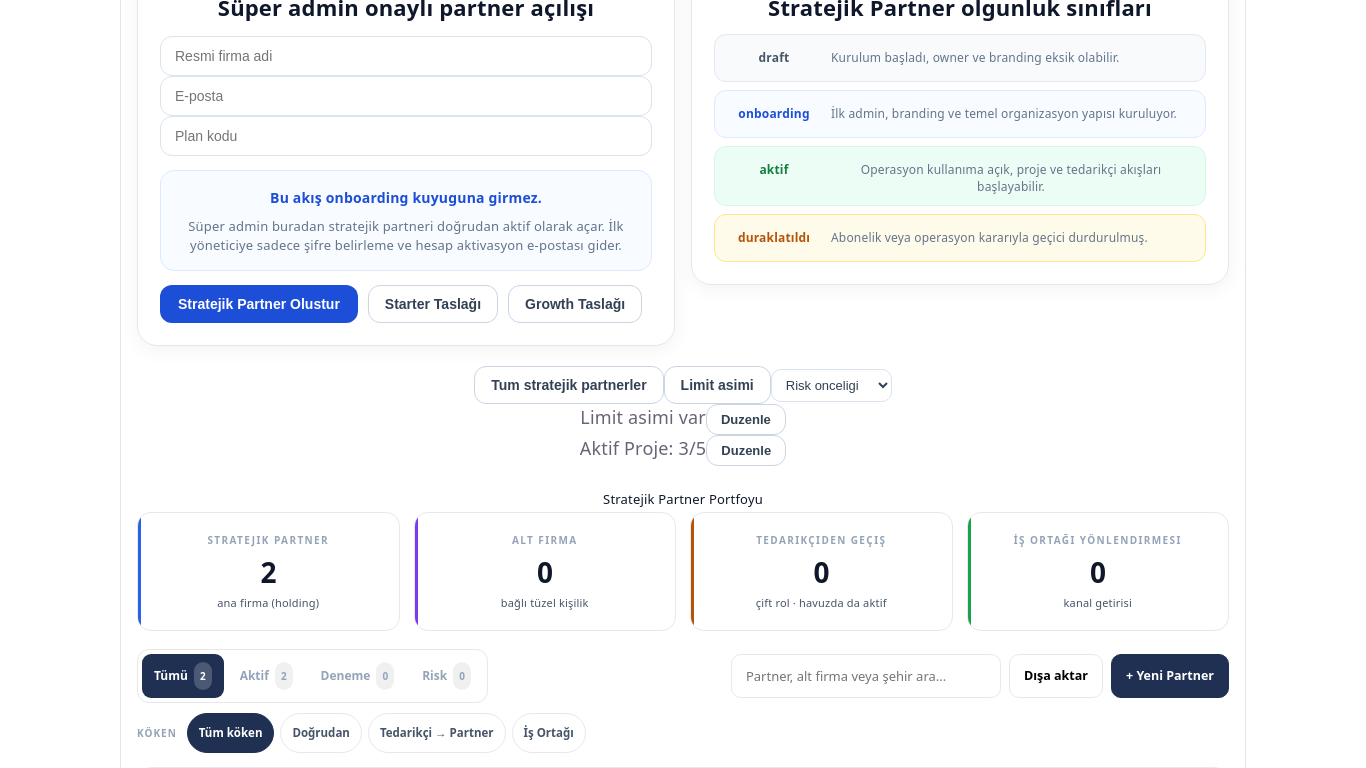
Scenario: AdminPage tenant governance permissions › super admin icin tenant governance aksiyonlarini aktif gosterir
(page scrolled)
Expected: the text "Stratejik Partner Portfoyu" is shown, [603,490,763,508]
Expected: the button "Stratejik Partner Olustur" is enabled, [160,285,358,323]
Click the button "Limit asimi" at (717, 385), box [664,366,771,404]
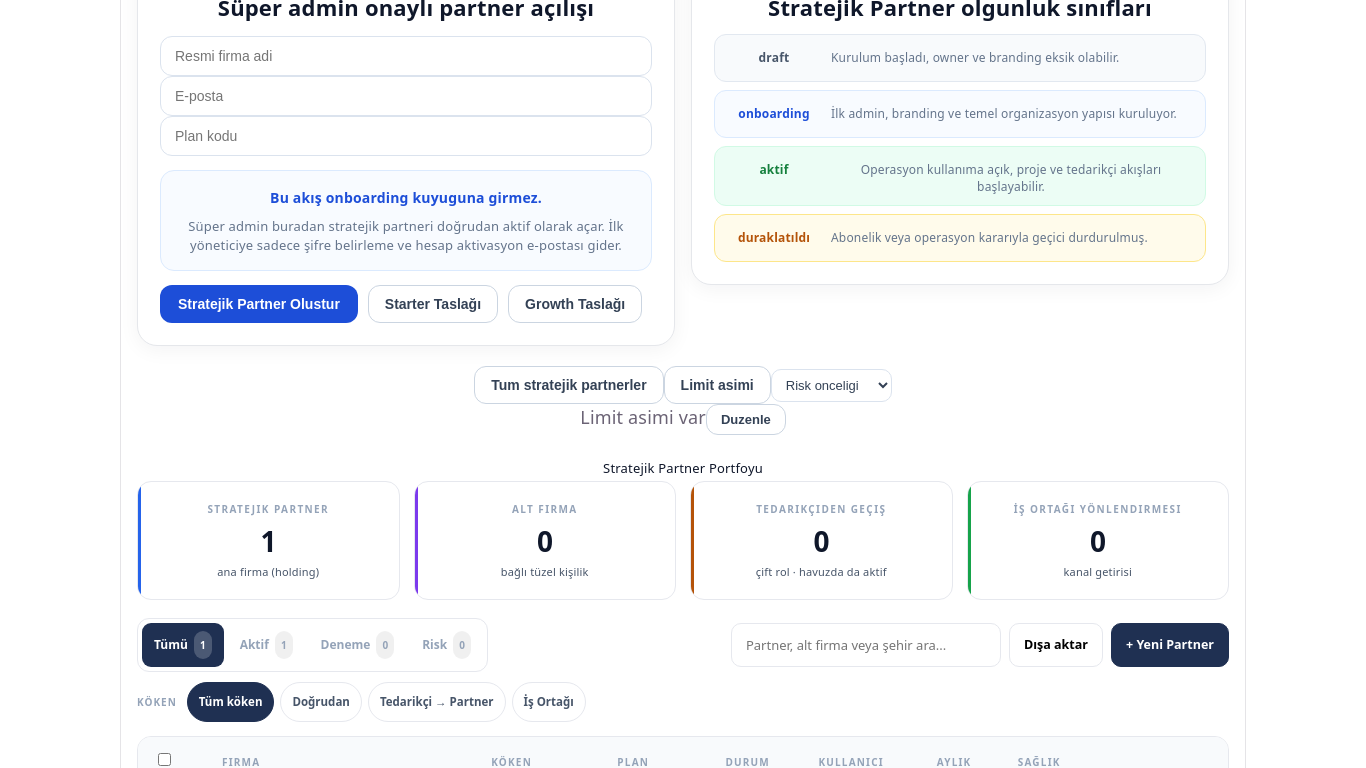
Expected: the text "tenant one" is not shown
Select "Ad siralaması" in the dropdown showing "risk onceligi" at (831, 385), box [771,369,892,402]
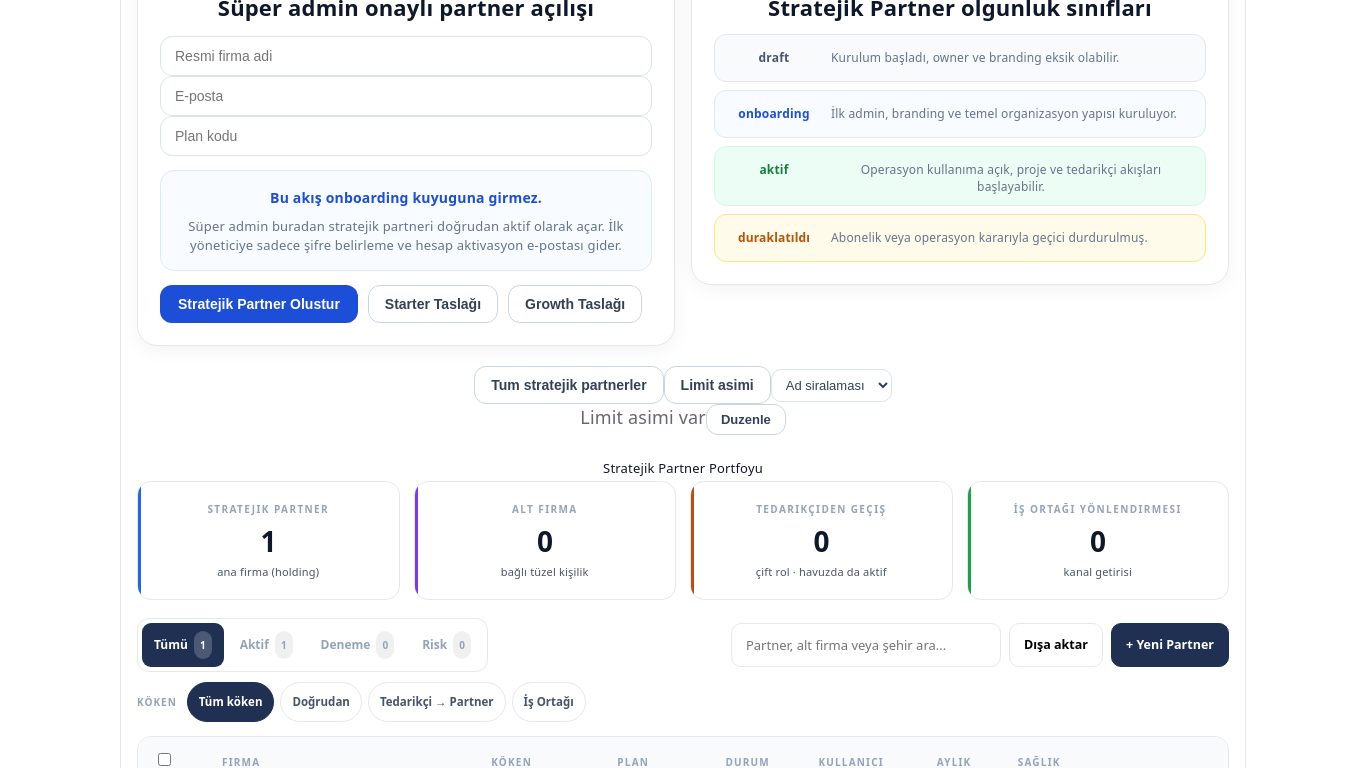
Click the button "Tum stratejik partnerler" at (569, 385), box [474,366,664,404]
(page scrolled)
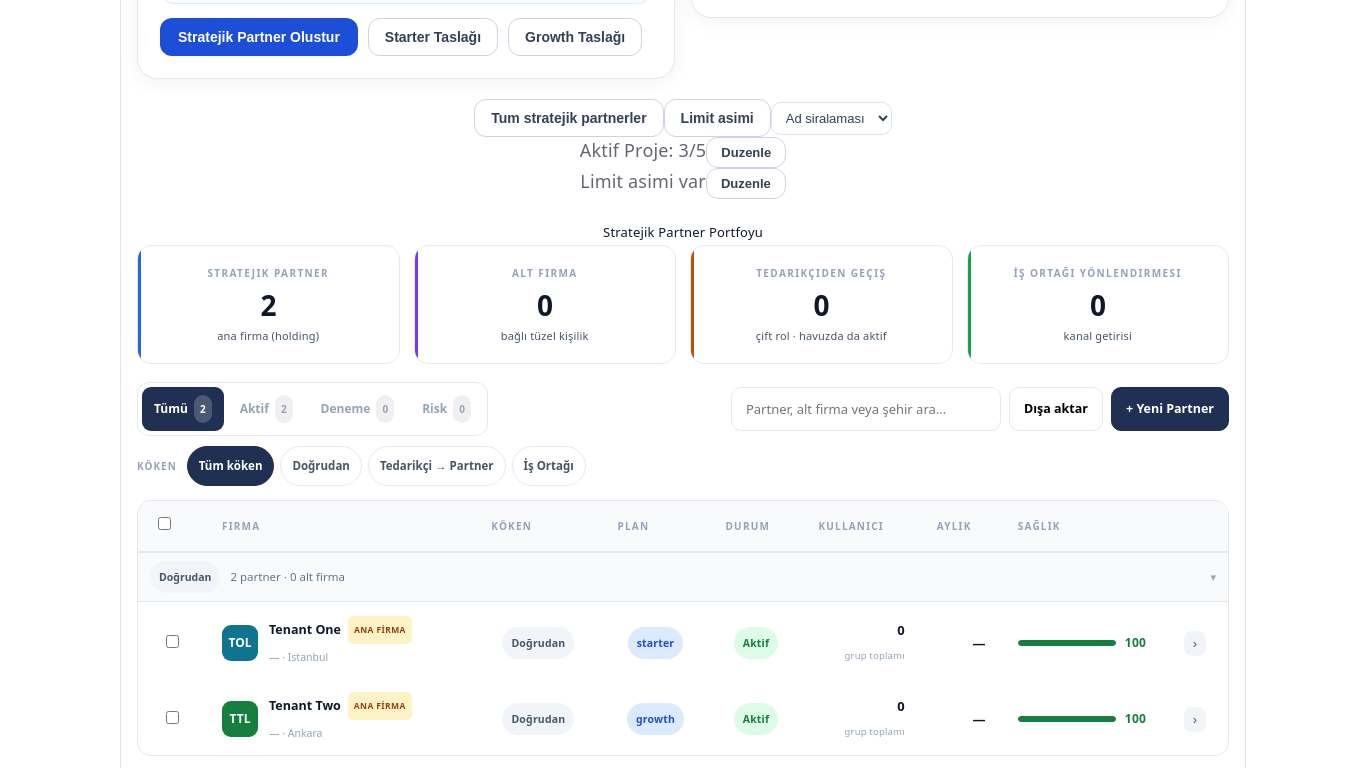
Expected: the text "Tenant One ANA FİRMA" is shown, [269,616,412,644]
